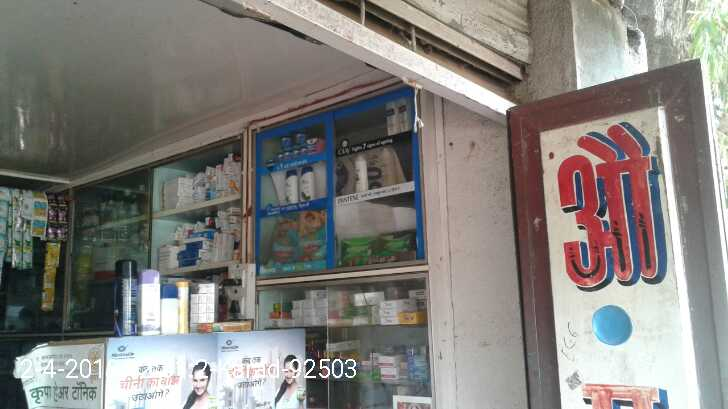vicks: (278, 129, 321, 161)
